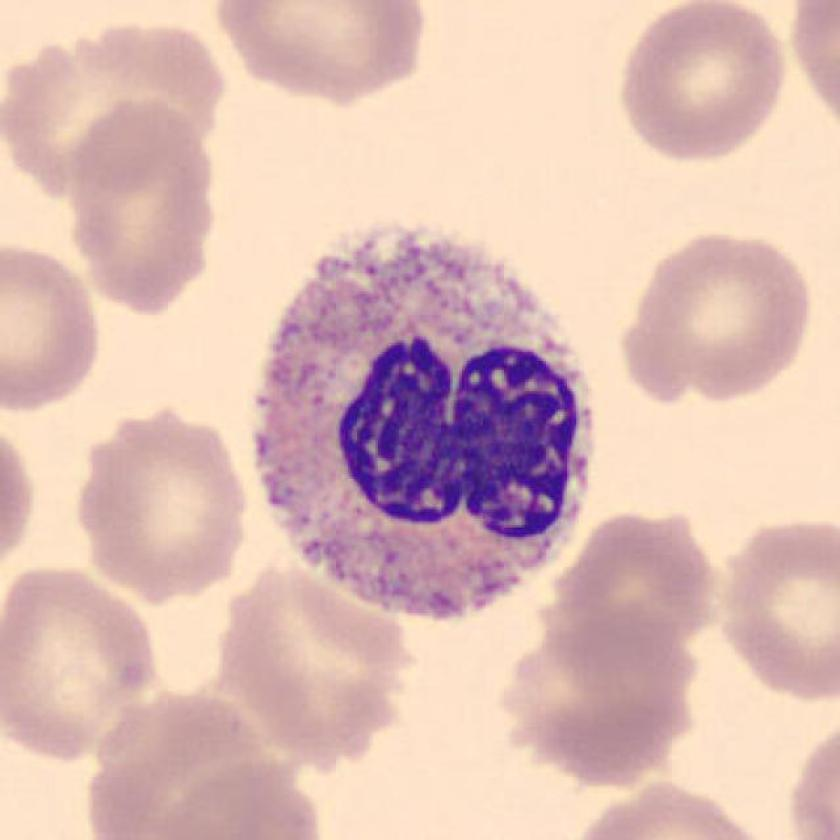neutrophil: (252, 229, 593, 618)
